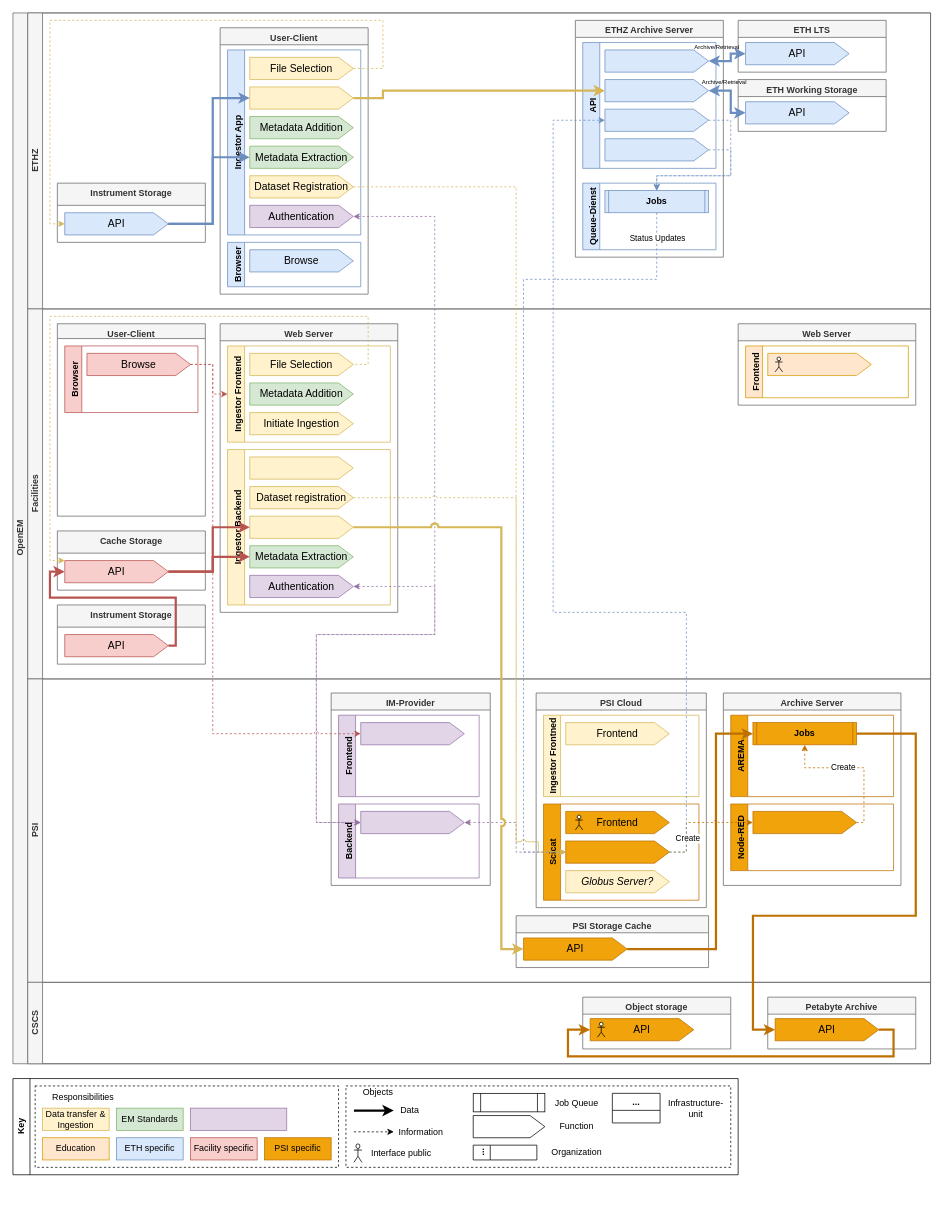
The diagram is 944 pixels wide and 1232 high, and some of its shapes have lost their labels. The shapes that lost their labels are listed below. From the top down, each one's centre as x and y in pixels, then its label:
At (x=656, y=60): "LTS Interface".
At (x=301, y=97): "Data Upload".
At (x=656, y=90): "Working Storage Interface".
At (x=656, y=119): "Dataset Archival Scheduler".
At (x=656, y=149): "Dataset Retrieval Scheduler".
At (x=819, y=364): "Documentation".
At (x=301, y=467): "Data validation".
At (x=301, y=526): "Data Transfer Scheduler".
At (x=412, y=733): "User control".
At (x=412, y=822): "IM API".
At (x=804, y=822): "RabbitMQ".
At (x=617, y=851): "Backend (API)".
At (x=238, y=1118): "SciCat Authentication & Access".
